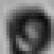correct: (4, 8, 54, 54)
